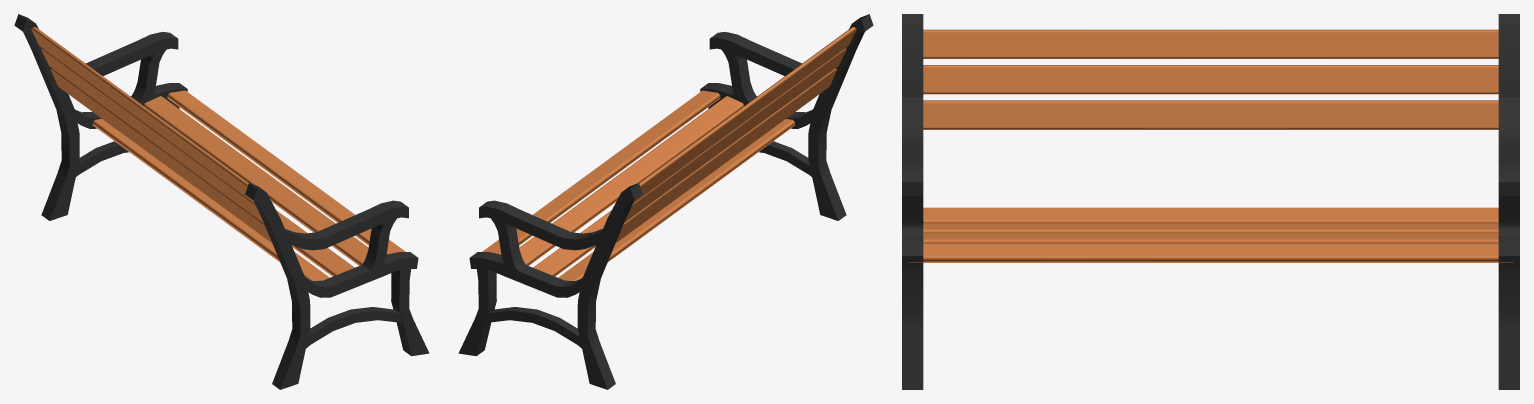
Rendered from combined.fbx.
3 renders of one model, left to right at view 1: azimuth 30°, elevation 25°; view 2: azimuth 150°, elevation 25°; view 3: azimuth 270°, elevation 25°, orthographic. The views are drawn at different scales.
Parts seen in each view (by area): view 1: bench; view 2: bench; view 3: bench.
Part boxes in pixels (left/top/right/bottom): bench: left=14, top=14, right=429, bottom=389; bench: left=458, top=14, right=873, bottom=389; bench: left=902, top=14, right=1519, bottom=389.
Size of the model in its own units: 1.86 by 2.08 by 4.35.
